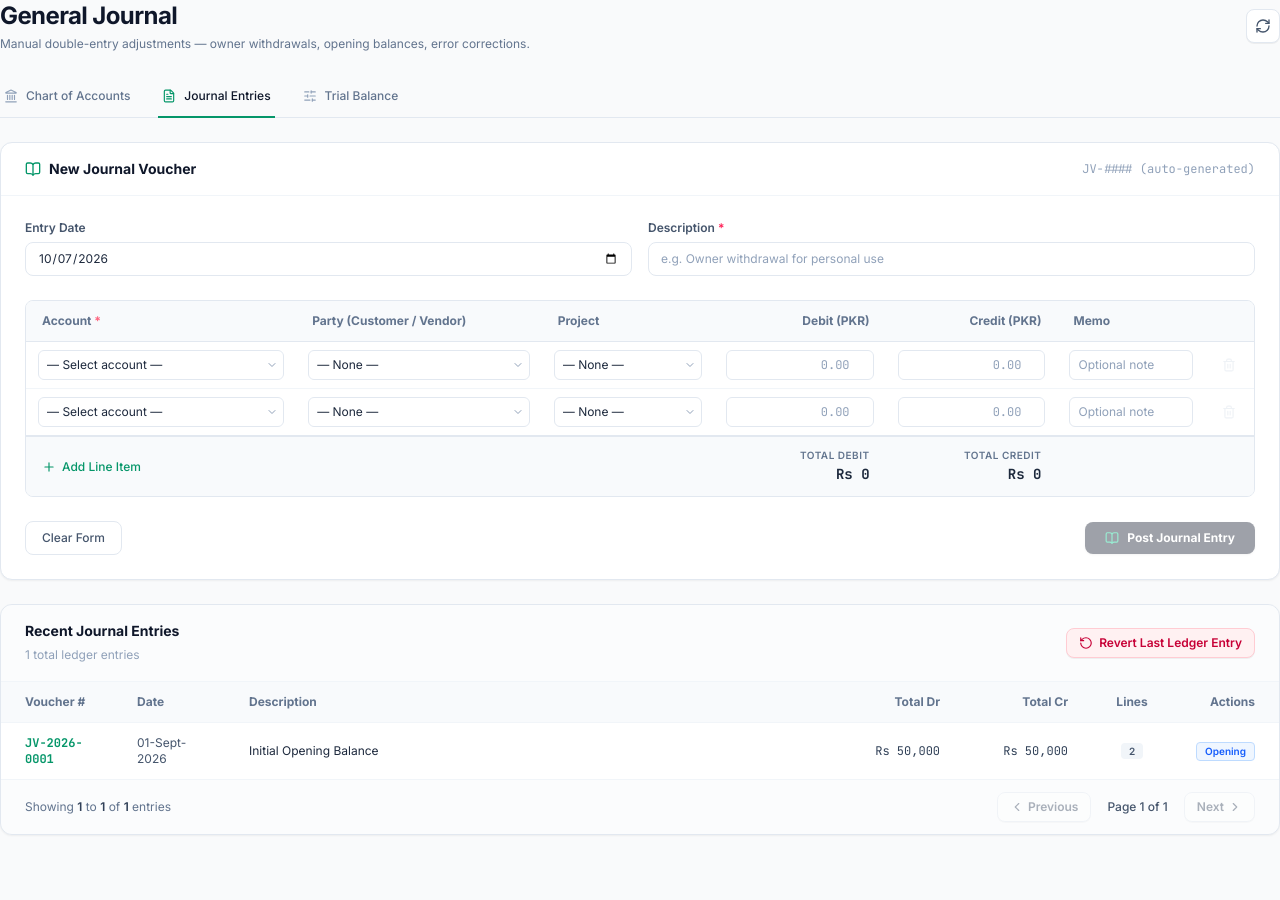
Test: JournalEntryForm / JournalsPage Component › 8. opens Revert Last Ledger Entry modal and confirms reversal
This screenshot has width=1280, height=900.
Step 1. Click the button with test id "revert-last-ledger-btn" → coordinates (1161, 643), box top-left (1066, 628), bottom-right (1255, 658)
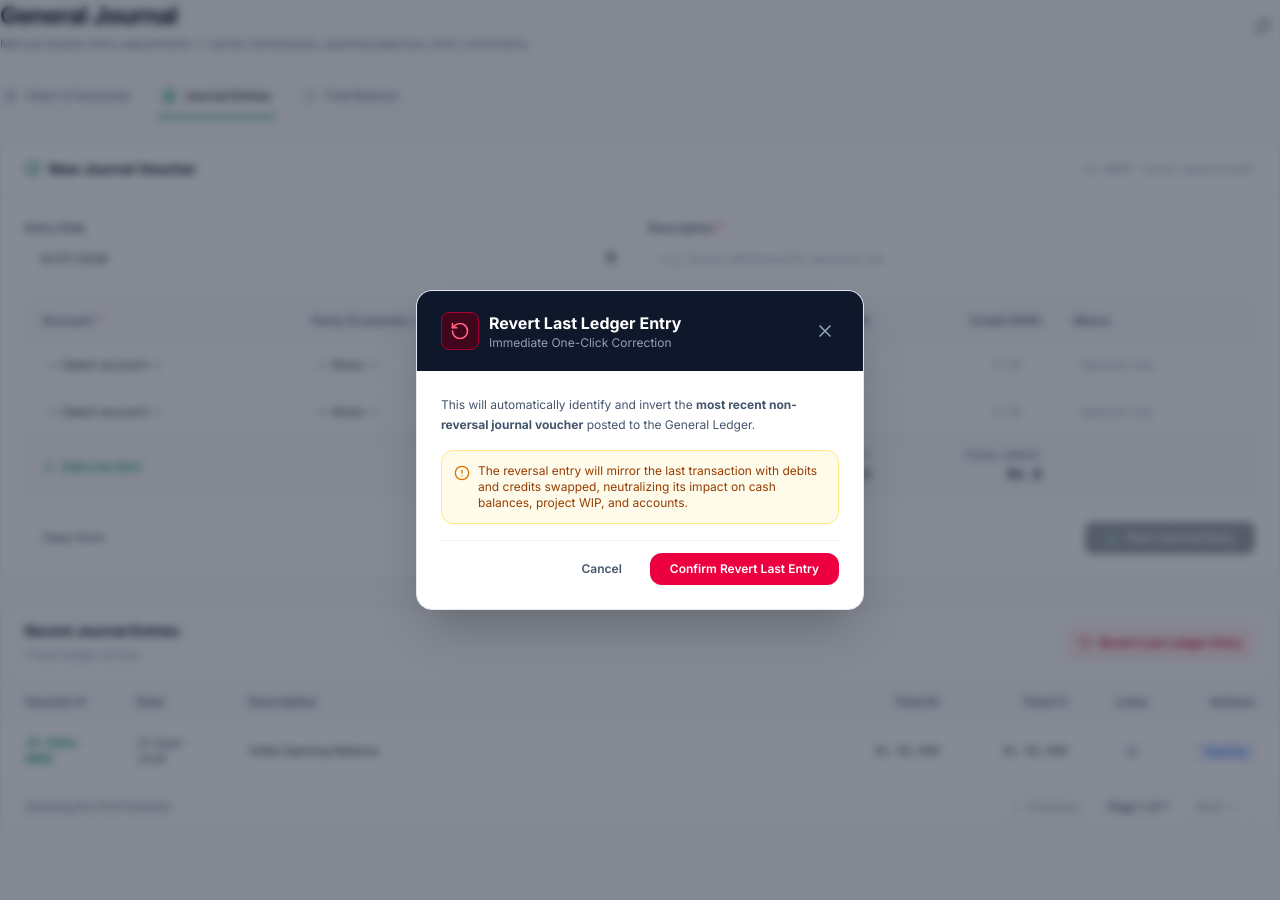
Check: the heading "Revert Last Ledger Entry" is shown, box top-left (489, 311), bottom-right (681, 335)
Step 2. Click the button with test id "confirm-revert-last-btn" → coordinates (744, 569), box top-left (650, 553), bottom-right (839, 585)
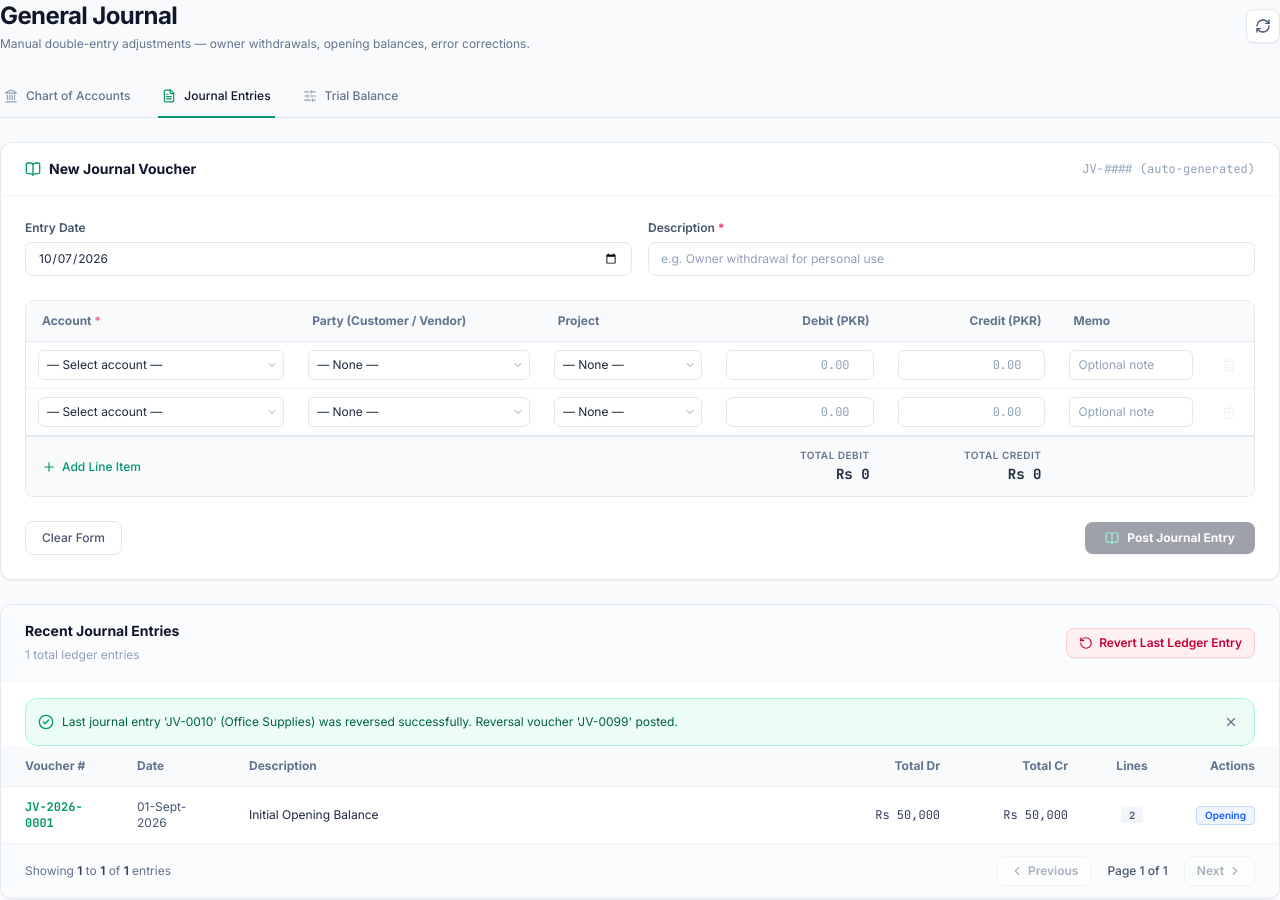
Check: the text "was reversed successfully" is shown, box top-left (62, 714), bottom-right (678, 729)
